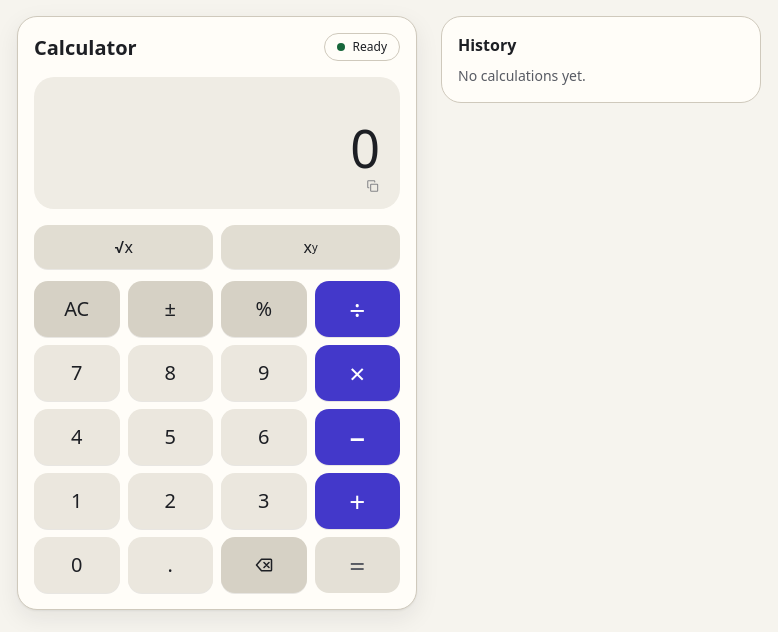
Test case: CalculatorPage › status › re-checks after a network error, and again once a calculation succeeds
Check: the text "Ready" is shown, box [324,33,400,61]
Click the button "1".
click(77, 501)  # box [34,473,120,529]
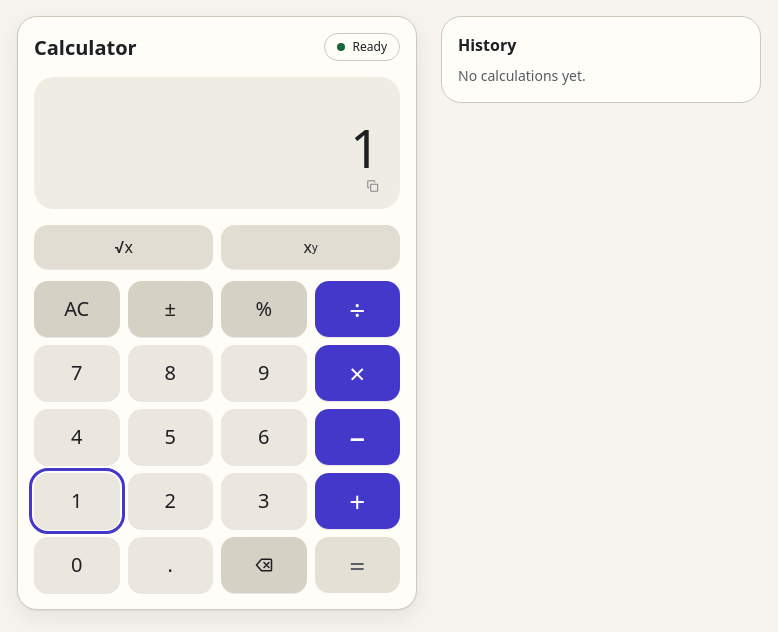
Click the button named "add".
click(357, 501)  # box [314,473,400,529]
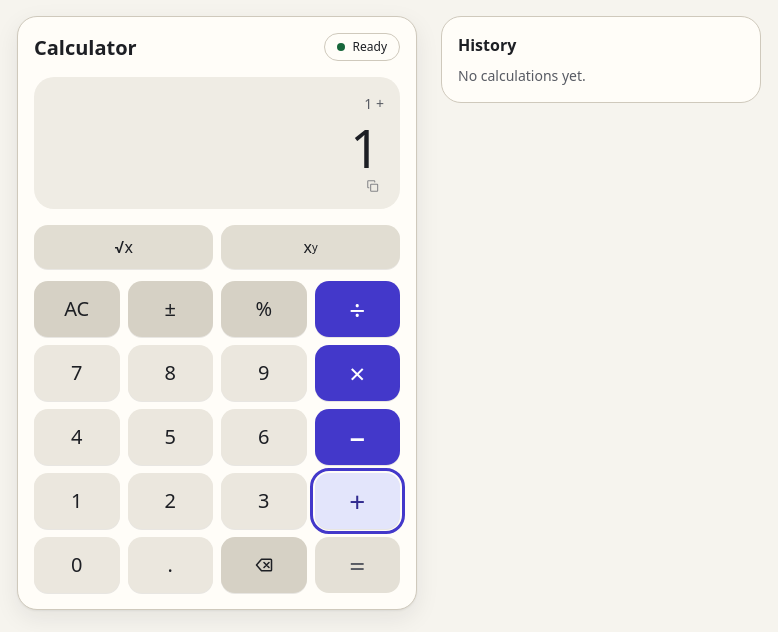
Click the 2nd button "1".
click(77, 501)  # box [34,473,120,529]
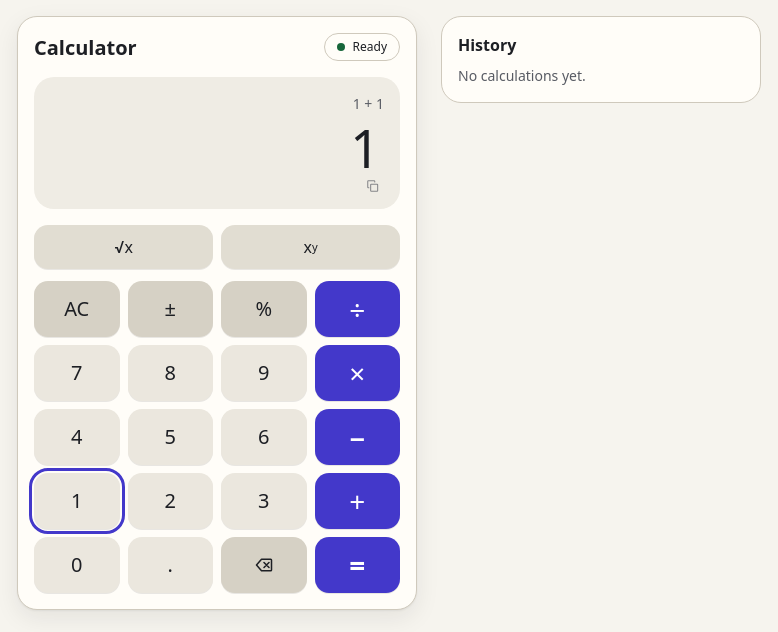
Click the button named "equals".
click(357, 565)  # box [314,537,400,593]
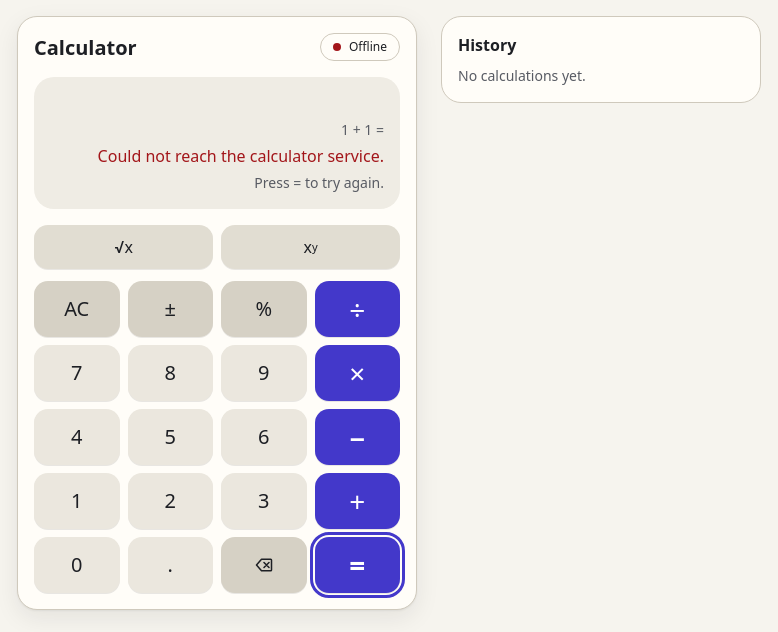
Check: the message shows "Could not reach the calculator service.", box [98,145,384,167]
Check: the text "Offline" is shown, box [320,33,400,61]
Click the button named "equals".
click(357, 565)  # box [314,537,400,593]
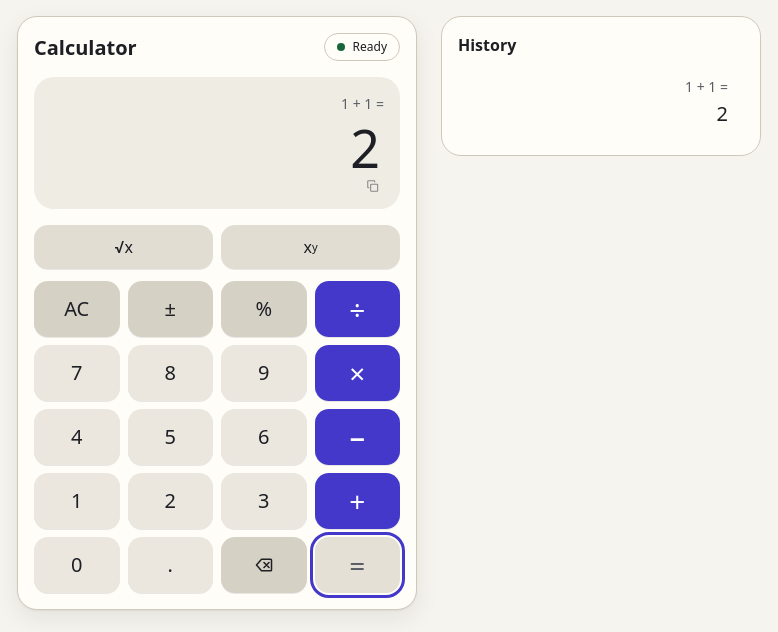
Check: the button named "2, copy" is shown, box [340,118,384,178]
Check: the text "Ready" is shown, box [324,33,400,61]
